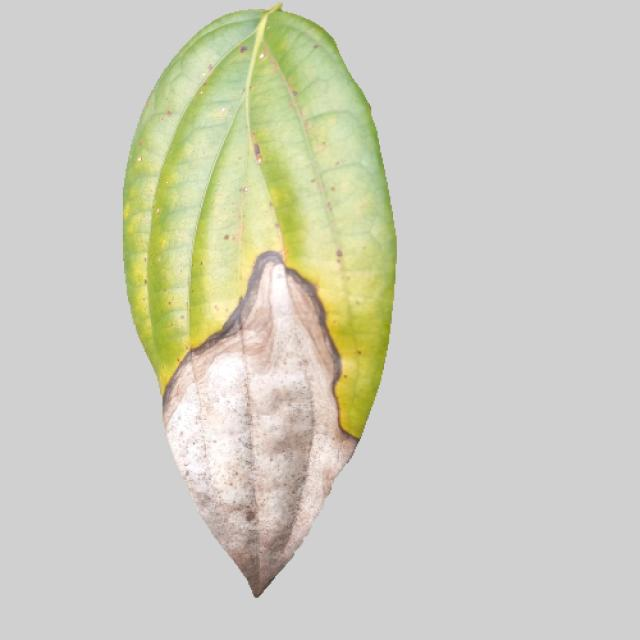leaf-blight: (106, 4, 399, 613)
